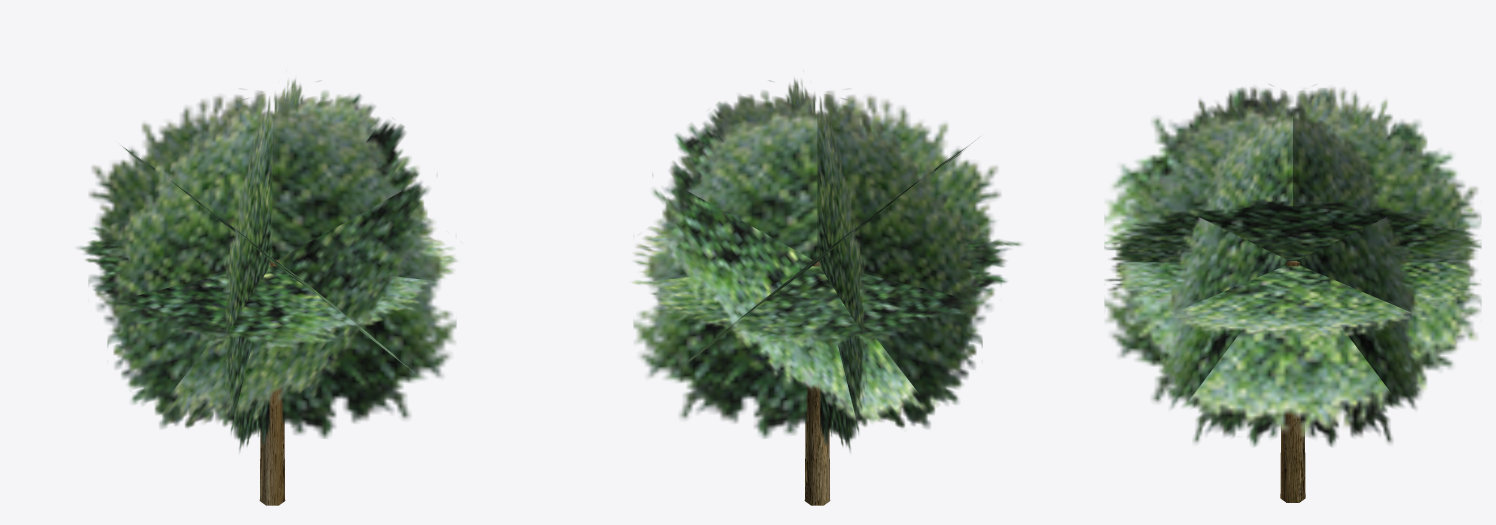
Rendered from tree.glb.
The picture shows the model from 3 angles, left to right: view 1: azimuth 30°, elevation 25°; view 2: azimuth 150°, elevation 25°; view 3: azimuth 270°, elevation 25°; orthographic projection.
Visible parts, largest first — view 1: Cylinder; view 2: Cylinder; view 3: Cylinder.
Part boxes in pixels (x1,y1,x2,y2): Cylinder: (77, 78, 458, 505); Cylinder: (631, 78, 1021, 505); Cylinder: (1104, 84, 1481, 502).
Bounding box in the file's own units: 0.549 × 0.6495 × 0.549.
Materials: 2 (2 with a texture image).
